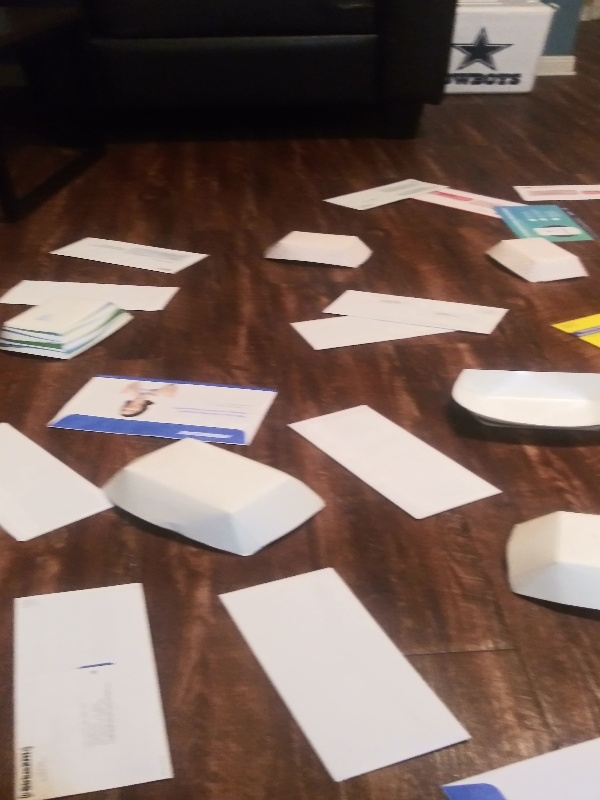plate: (97, 436, 326, 558), (442, 363, 600, 446), (504, 507, 598, 616), (1, 291, 143, 362), (480, 234, 591, 284), (258, 223, 372, 270)
